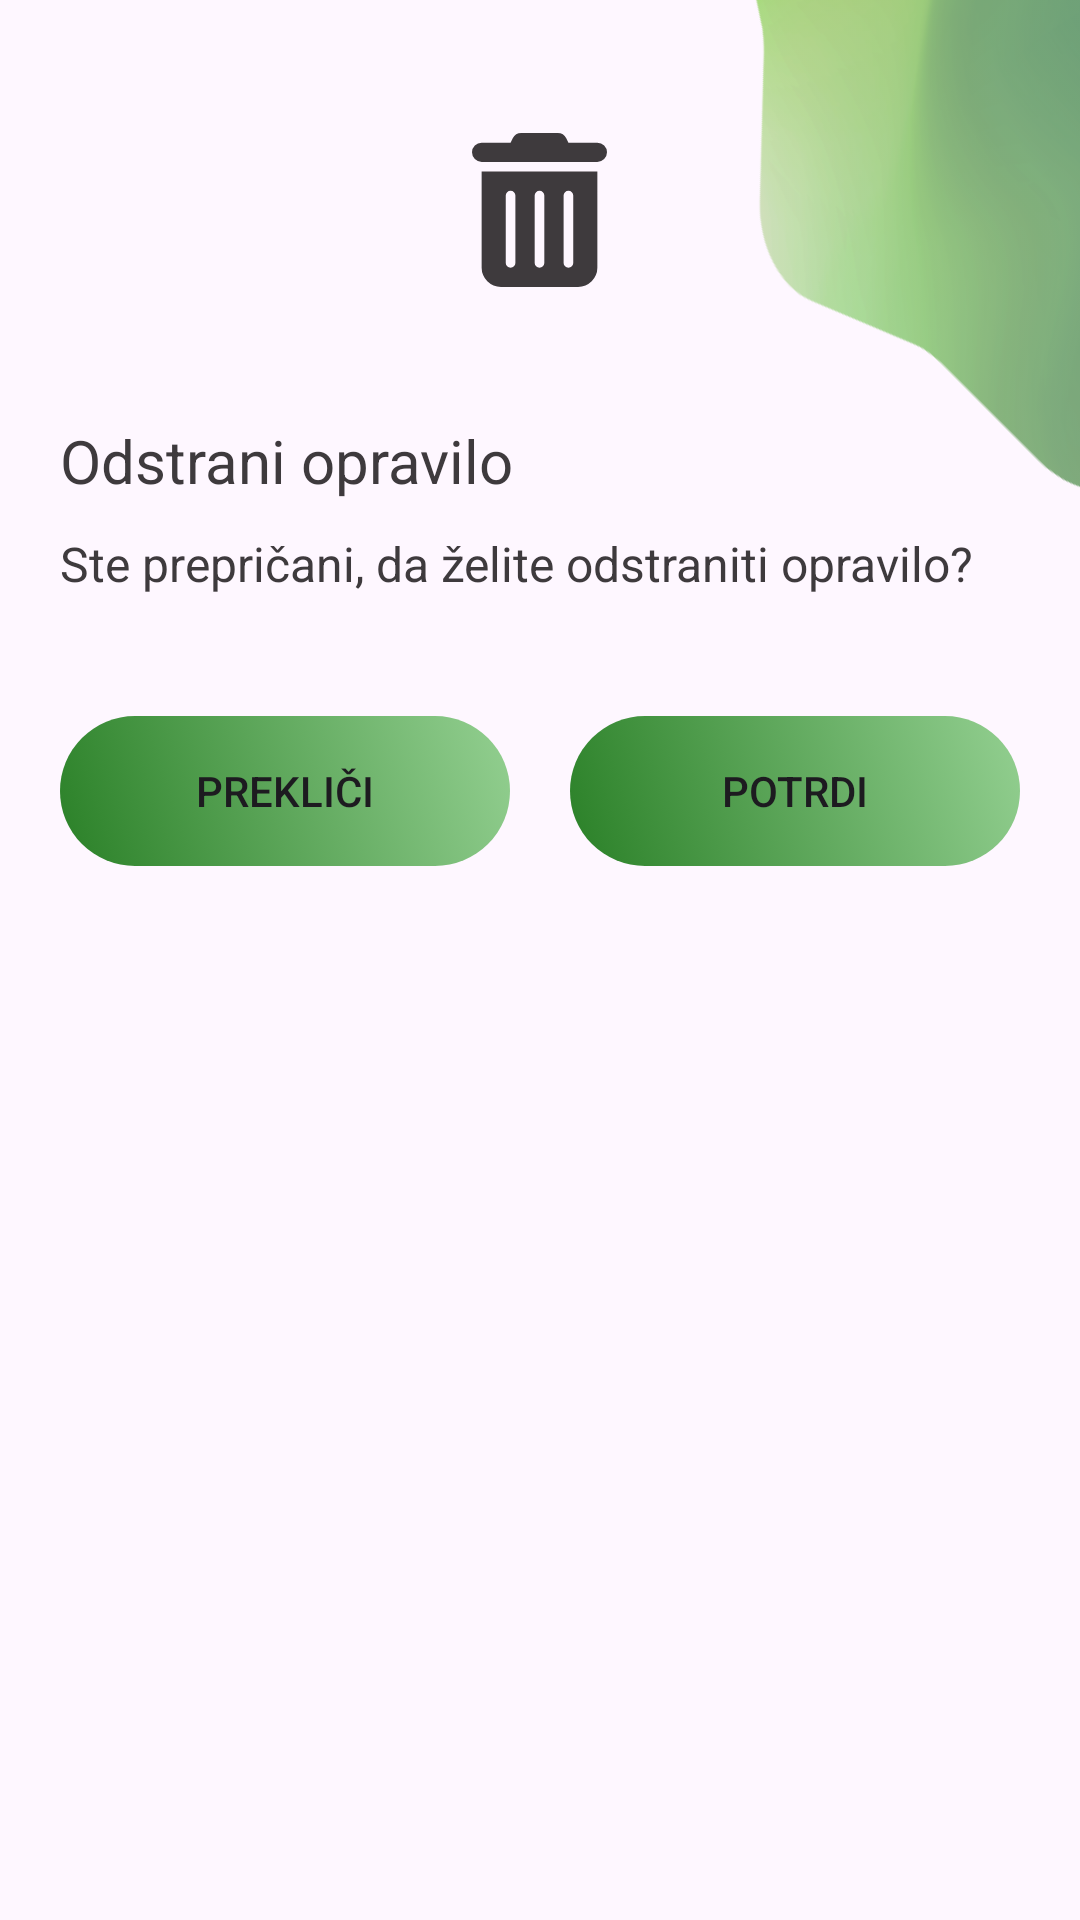

Locate icon controls on the screen. Image size 1080 x 1920, boxes as (x1, y1, x2, y2).
trash can: (472, 133, 607, 287)
